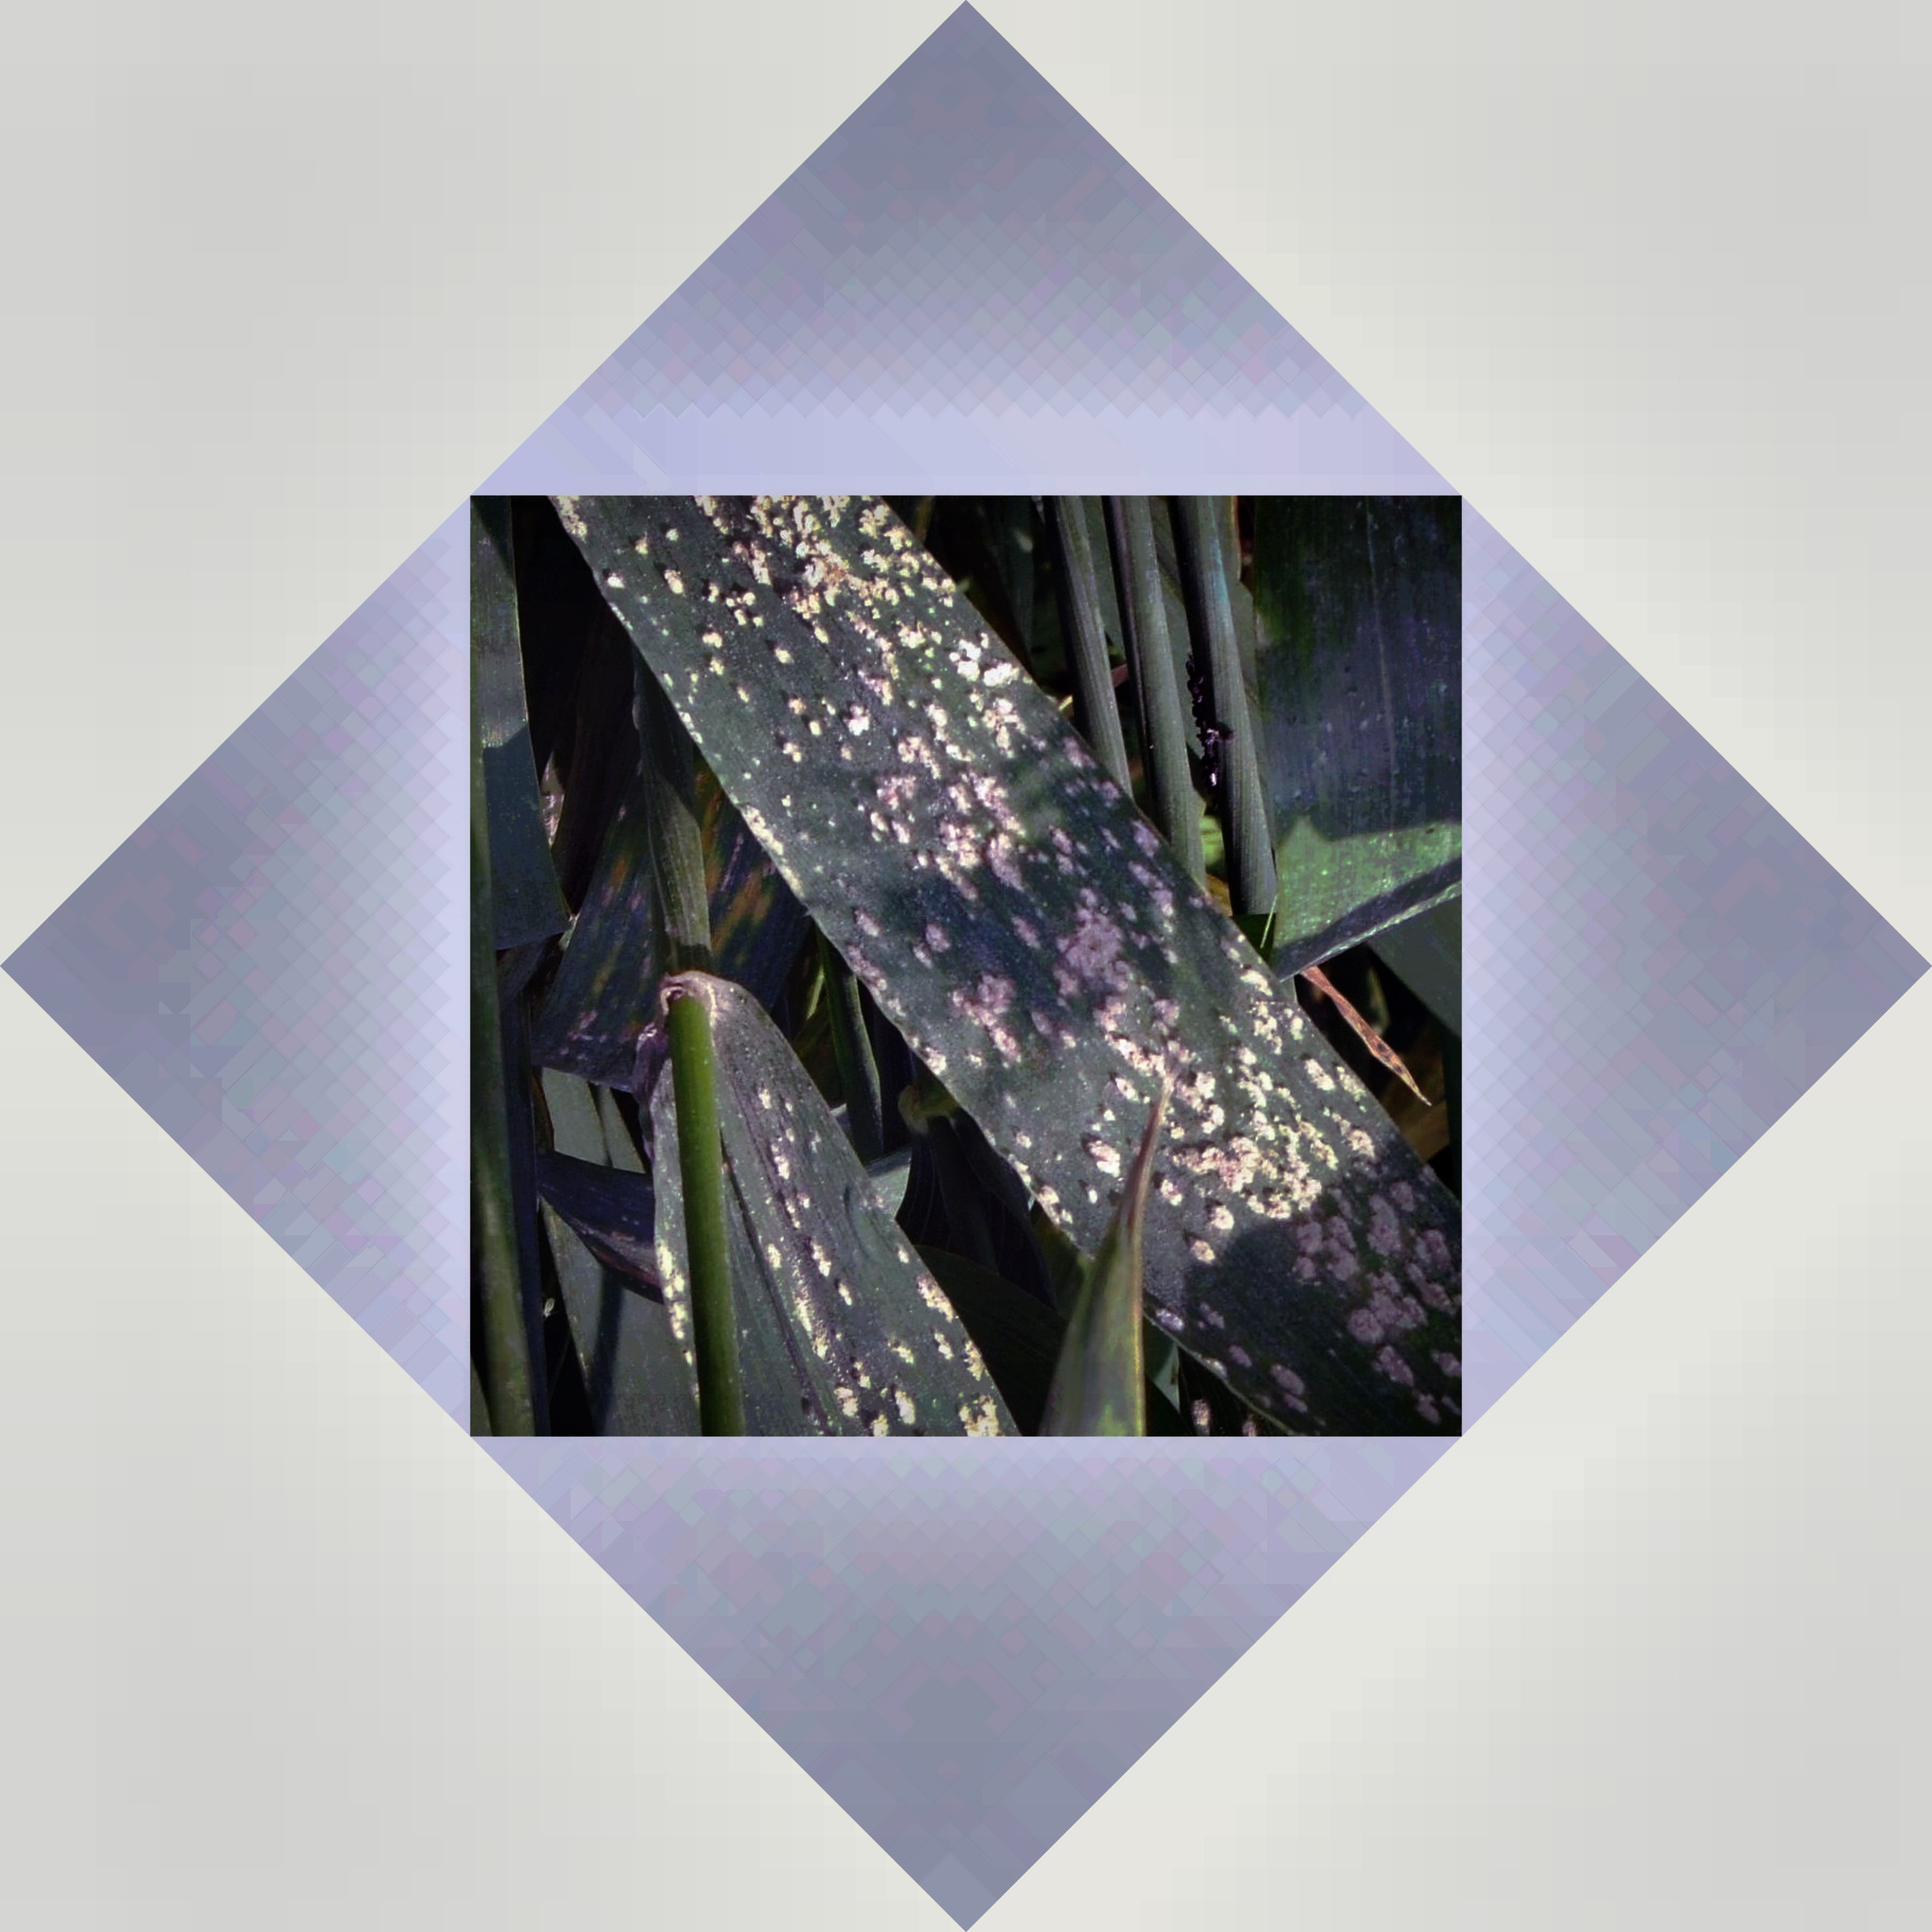Powdery Mildew: (731, 548, 1414, 1318)
